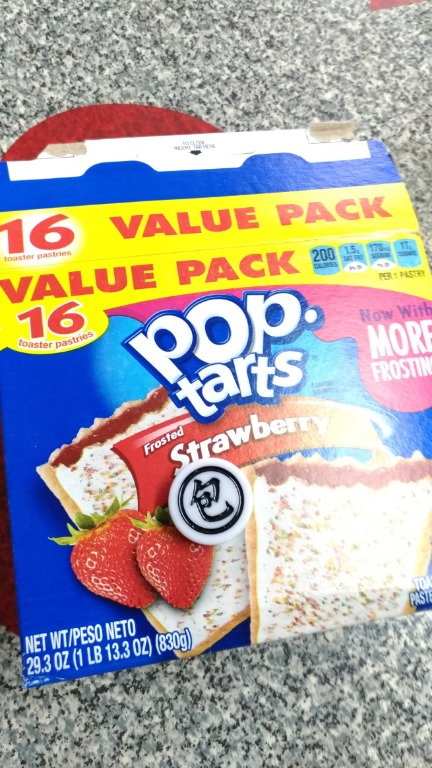b-cannon: (149, 455, 269, 551)
